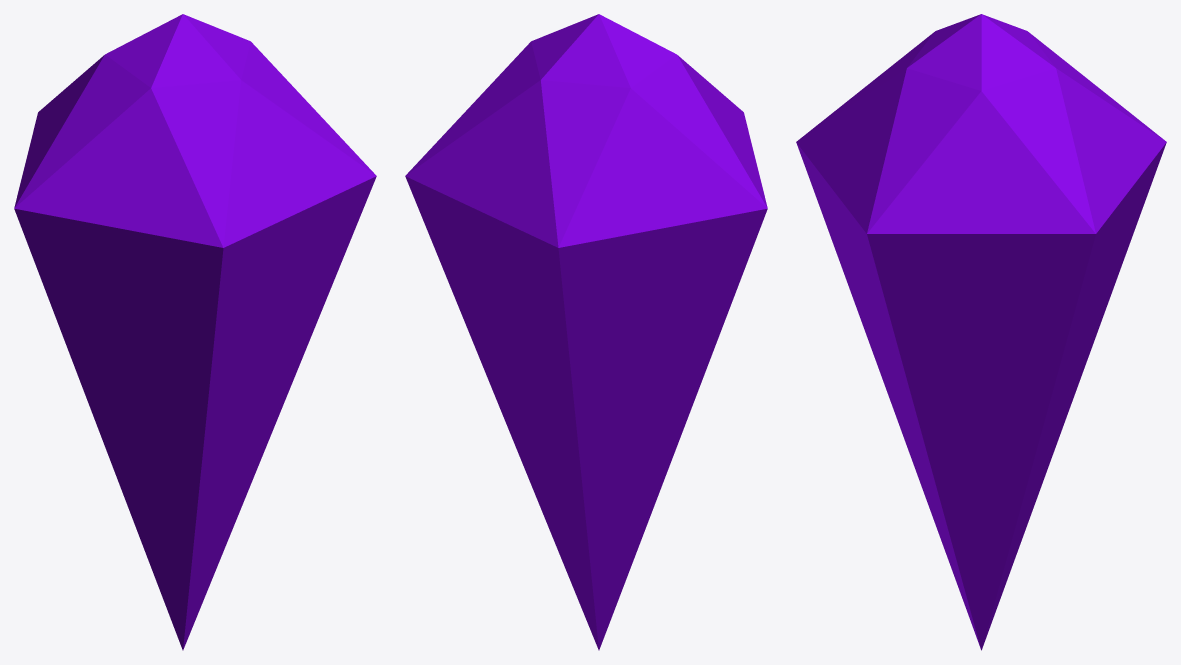
File: crystal.glb
The picture shows the model from 3 angles, left to right: view 1: azimuth 30°, elevation 25°; view 2: azimuth 150°, elevation 25°; view 3: azimuth 270°, elevation 25°; orthographic projection.
Parts seen in each view (by area): view 1: Icosphere; view 2: Icosphere; view 3: Icosphere.
Boxes of the visible parts, left/top/right/bottom form: Icosphere: left=14, top=14, right=376, bottom=650; Icosphere: left=405, top=14, right=767, bottom=650; Icosphere: left=796, top=14, right=1166, bottom=650.
Bounding box in the file's own units: 0.2723 × 0.5427 × 0.2863.
